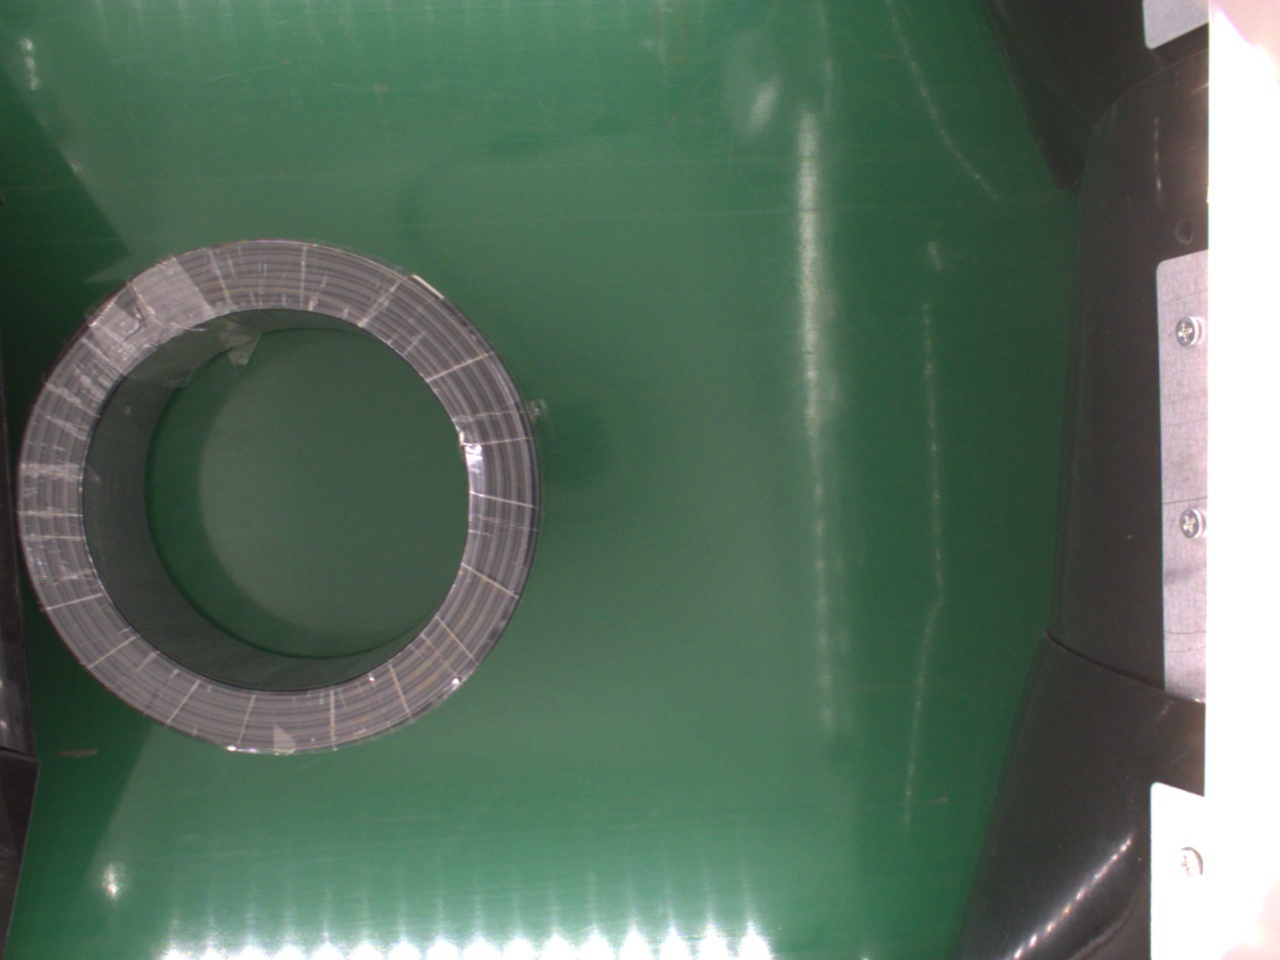black: (18, 238, 544, 750)
